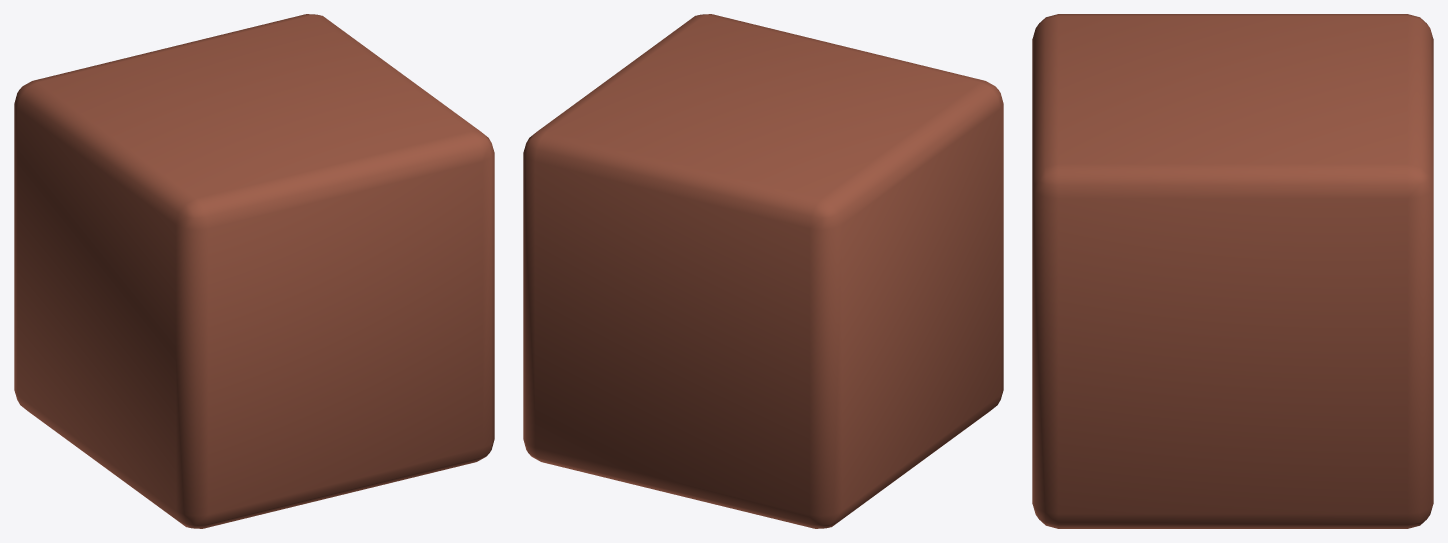
Rendered from tile.fbx.
3 views of the same model, side by side, from view 1: azimuth 30°, elevation 25°; view 2: azimuth 150°, elevation 25°; view 3: azimuth 270°, elevation 25° (orthographic). The views are drawn at different scales.
Parts seen in each view (by area): view 1: tileMedium_forest; view 2: tileMedium_forest; view 3: tileMedium_forest.
Part boxes in pixels (x1=…): tileMedium_forest: x1=14, y1=14, x2=494, y2=528; tileMedium_forest: x1=523, y1=14, x2=1003, y2=528; tileMedium_forest: x1=1032, y1=14, x2=1433, y2=528.
Bounding box in the file's own units: 100 × 99.66 × 100.
